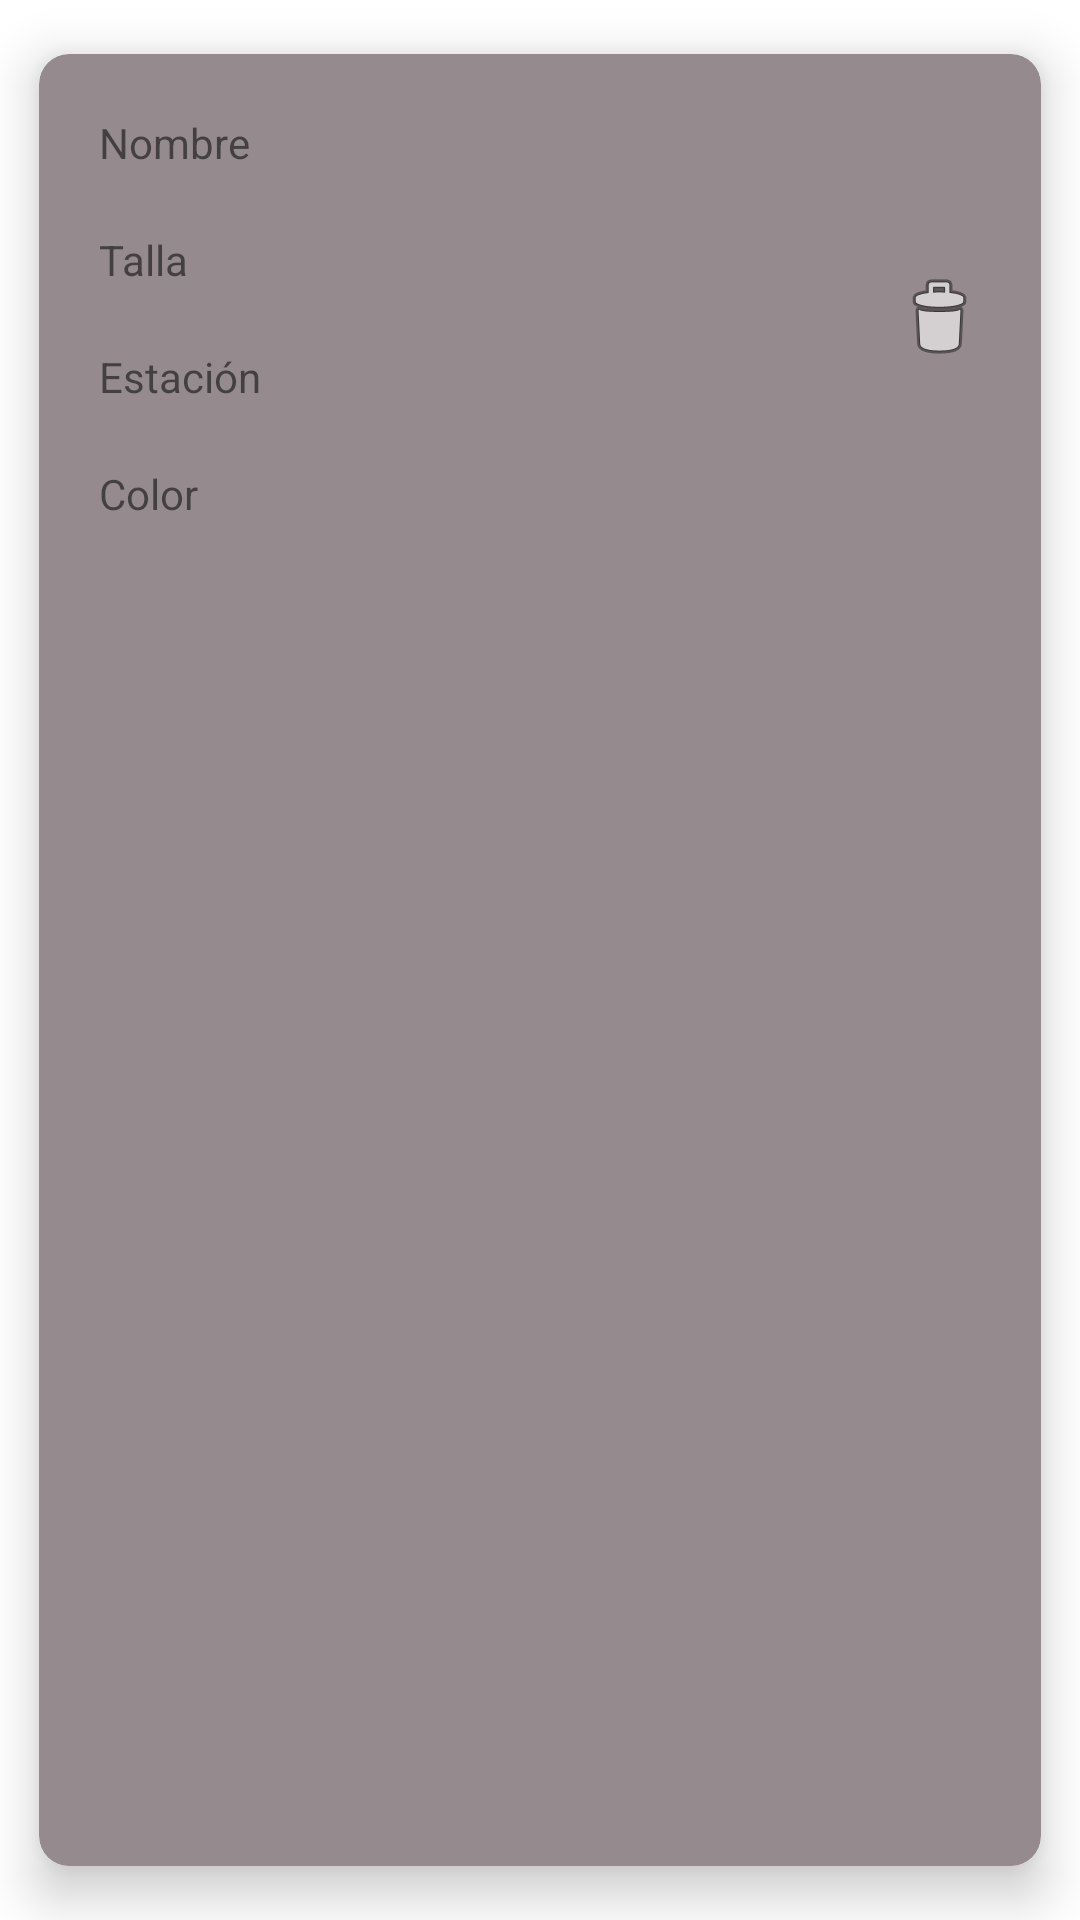

Named icons in this screenshot (1080px×1920px) and their bounding boxes, (x1, y1, x2, y2):
delete: (913, 279, 966, 354)
